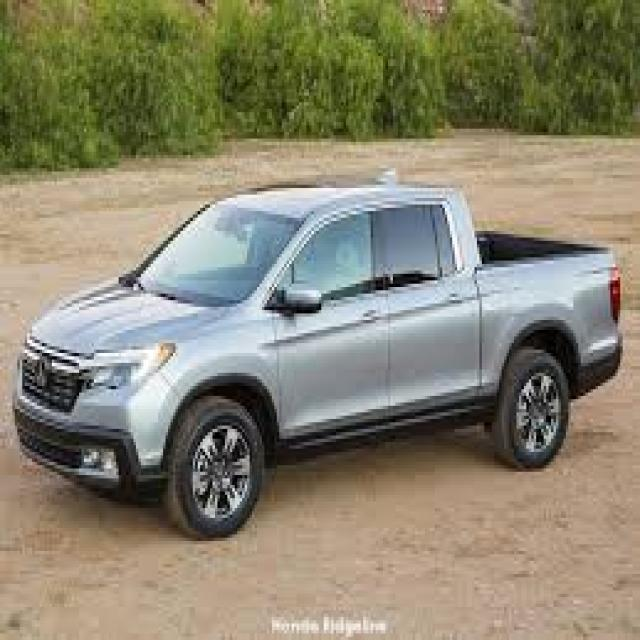Pickup Trucks: (15, 185, 620, 541)
